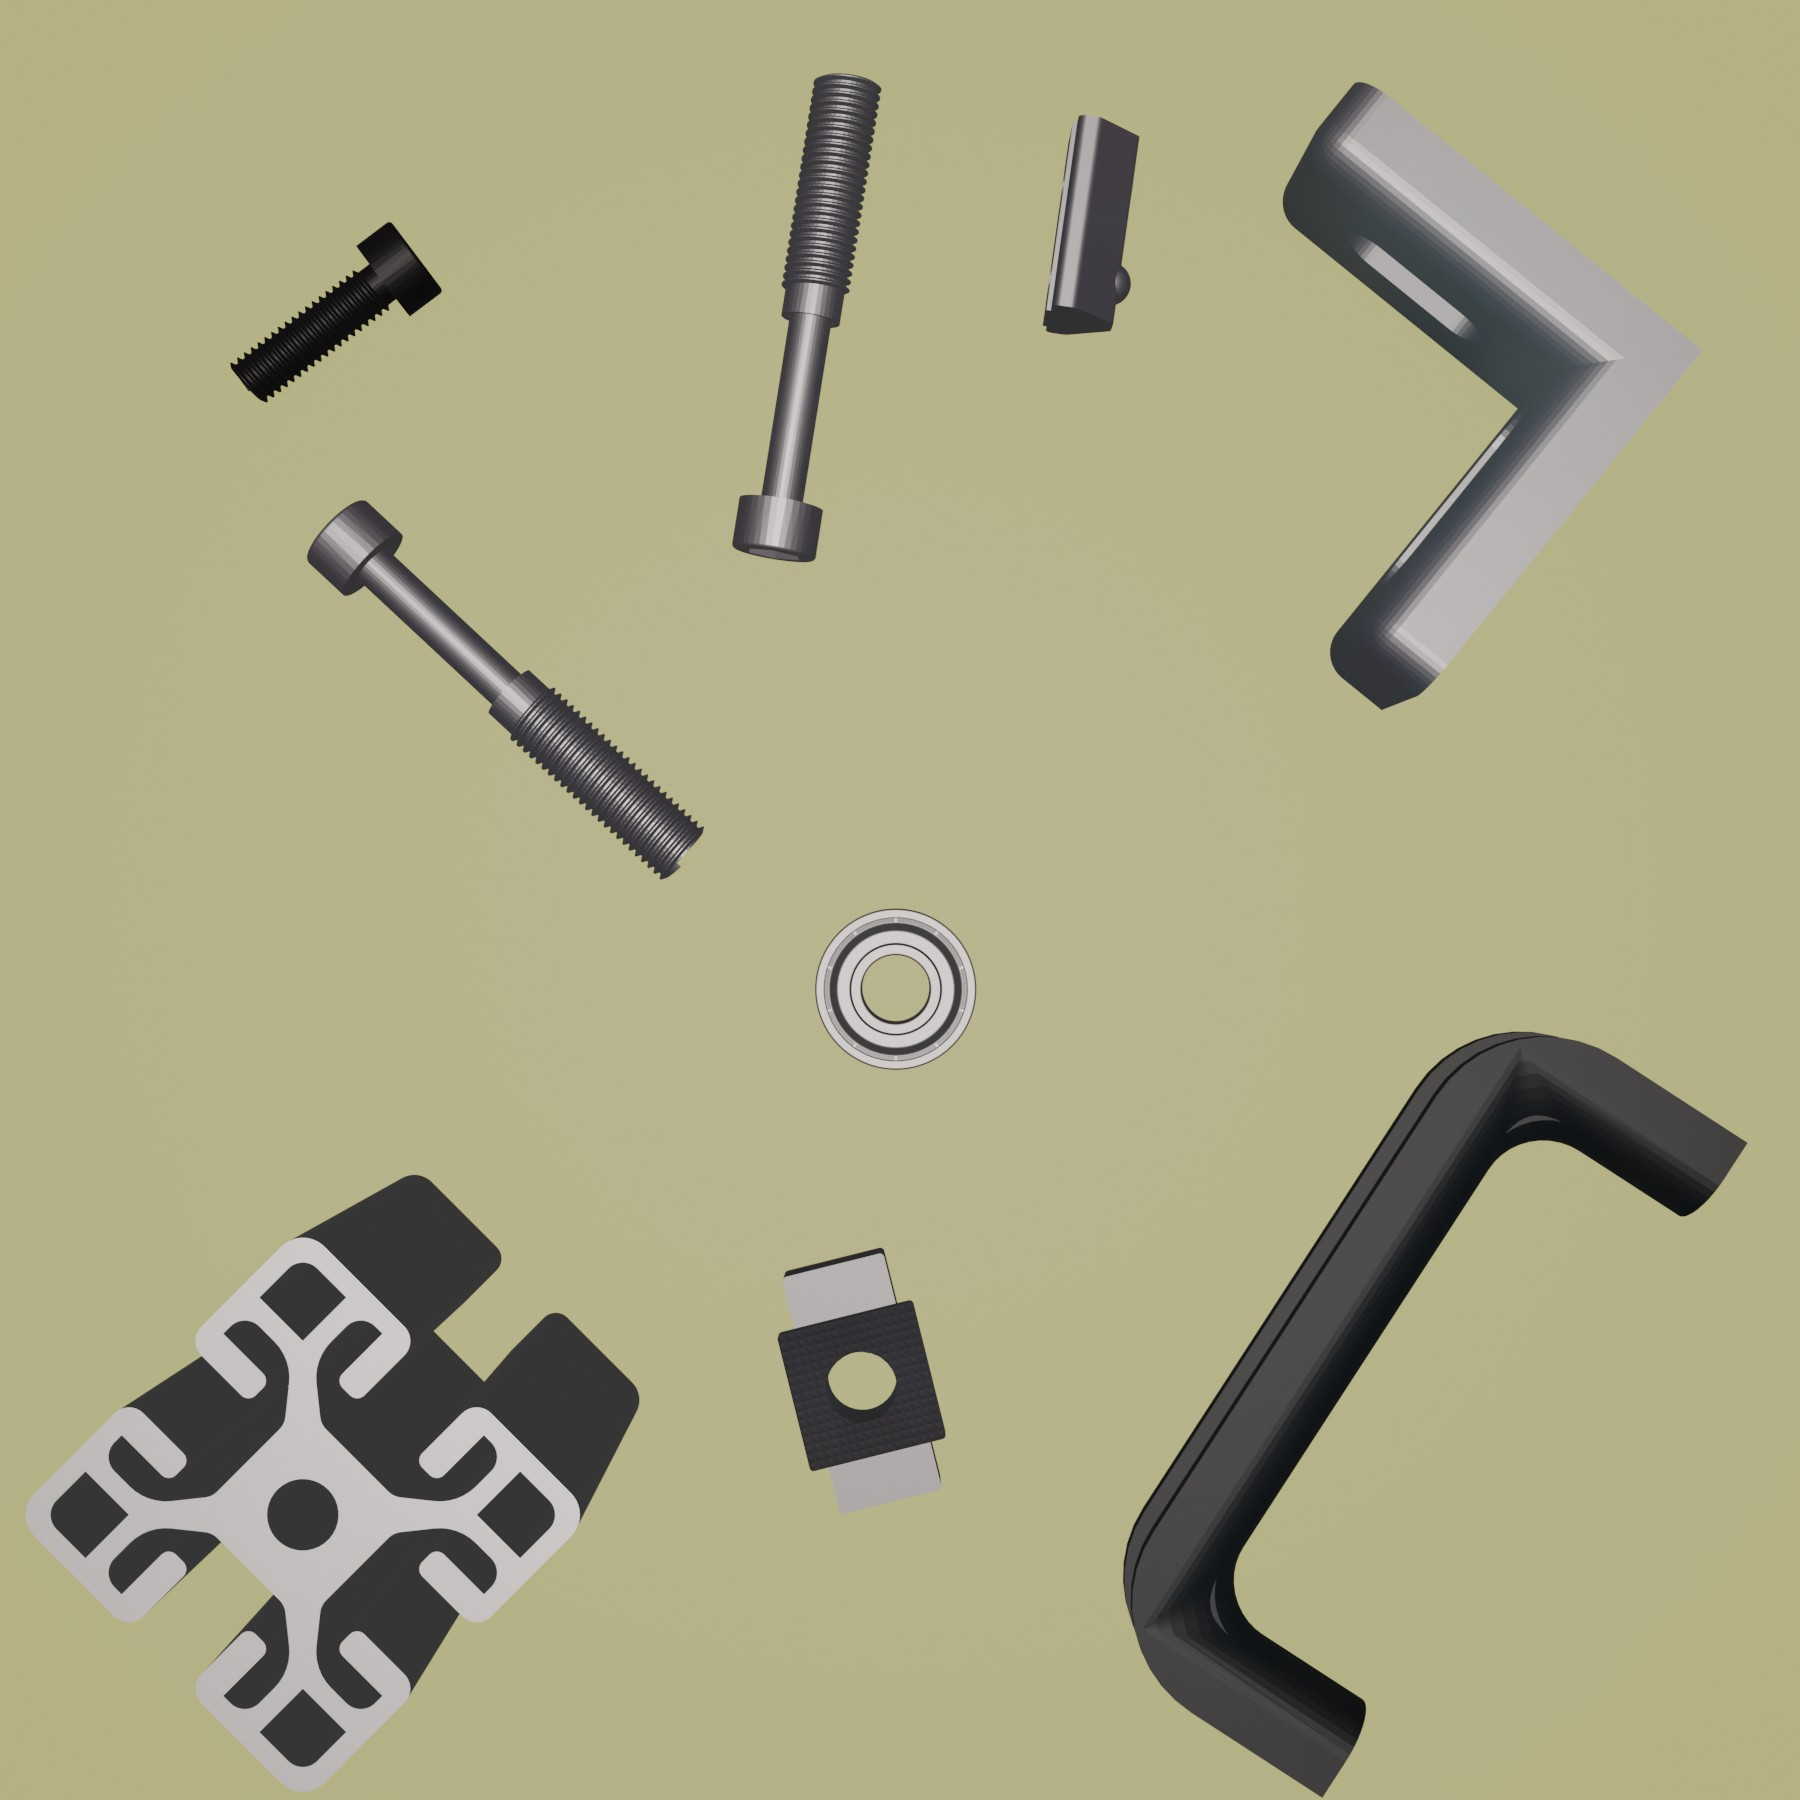Aluminium Extension: (25, 1174, 641, 1798)
Ball Bearing: (813, 903, 979, 1075)
Multiwinkel: (1281, 82, 1701, 710)
Pull Handle: (1121, 1030, 1747, 1800)
Shoulder Socket Head Cap Screw: (302, 496, 709, 882), (729, 69, 885, 565)
Socket Head Cap Screw: (227, 218, 443, 404)
T Nut Square: (771, 1241, 949, 1518)
T Spring Nut: (1035, 110, 1142, 338)
